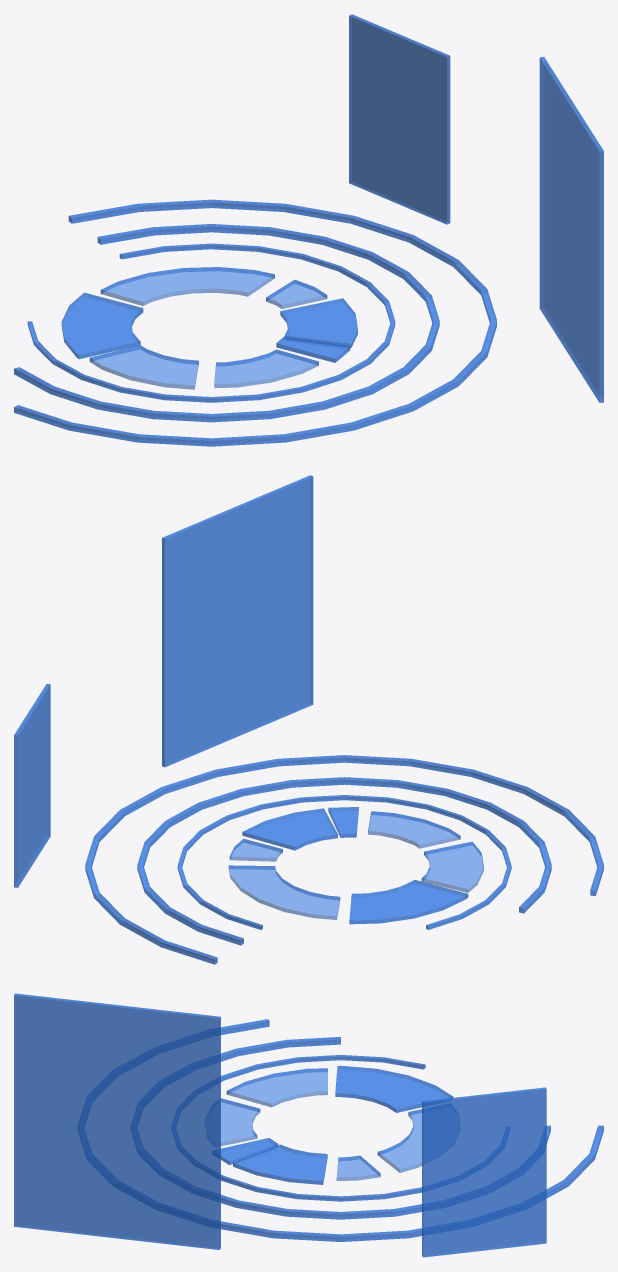
The model's file is trex_v3.fbx.
3 views of the same model, one above another, from view 1: azimuth 30°, elevation 25°; view 2: azimuth 150°, elevation 25°; view 3: azimuth 270°, elevation 25° (orthographic). The views are drawn at different scales.
Parts seen in each view (by area): view 1: Group2, Group9, Group8, Group7, Group3, Group5; view 2: Group8, Group2, Group7, Group9, Group3, Group5; view 3: Group8, Group9, Group2, Group7, Group3, Group5.
Part boxes in pixels (x1,y1,x2,y2): Group2: [61, 267, 357, 389]; Group9: [349, 14, 450, 224]; Group8: [539, 57, 603, 402]; Group7: [14, 199, 496, 446]; Group3: [14, 224, 439, 422]; Group5: [27, 243, 395, 402]; Group8: [162, 475, 313, 767]; Group2: [228, 807, 483, 924]; Group7: [85, 755, 603, 964]; Group9: [14, 684, 50, 887]; Group3: [137, 777, 551, 945]; Group5: [177, 795, 511, 929]; Group8: [14, 993, 220, 1249]; Group9: [422, 1087, 546, 1257]; Group2: [221, 1065, 453, 1184]; Group7: [221, 1019, 603, 1241]; Group3: [221, 1037, 550, 1219]; Group5: [221, 1055, 425, 1201].
Size of the model in its own units: 650 by 301 by 692.
